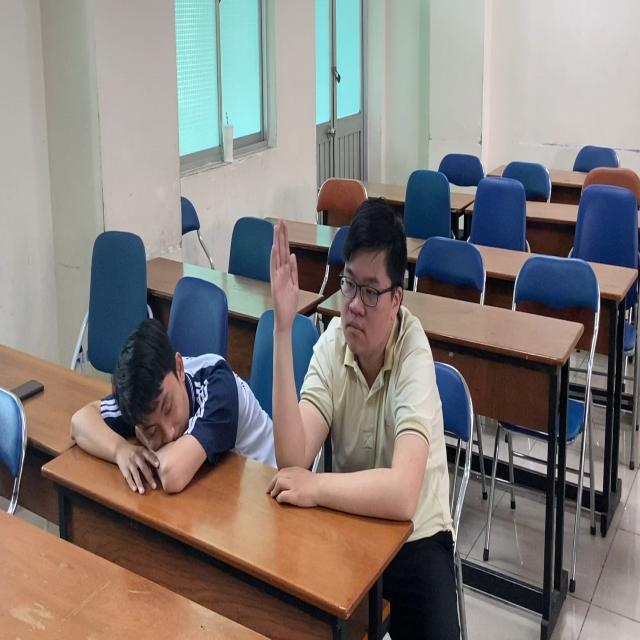raise_hand: (266, 208, 434, 523)
sleep: (57, 302, 274, 511)
